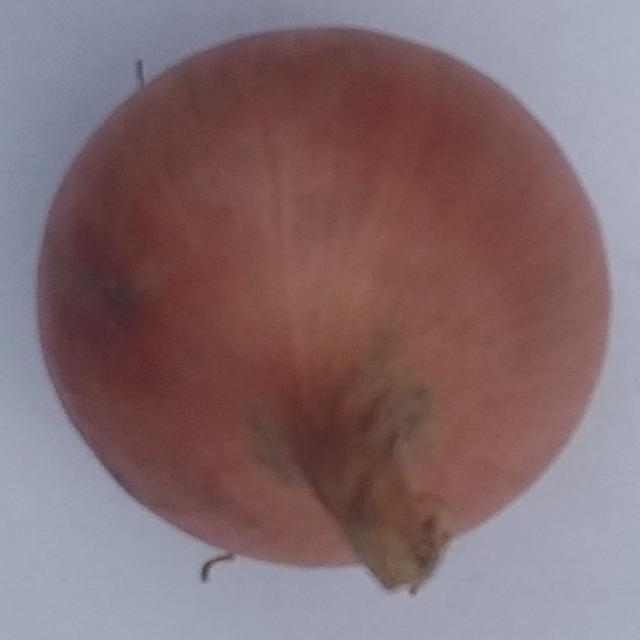onion: (30, 18, 614, 599)
